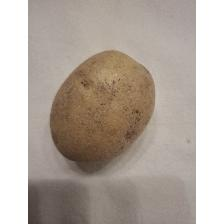Kartoffel: (47, 48, 157, 166)
